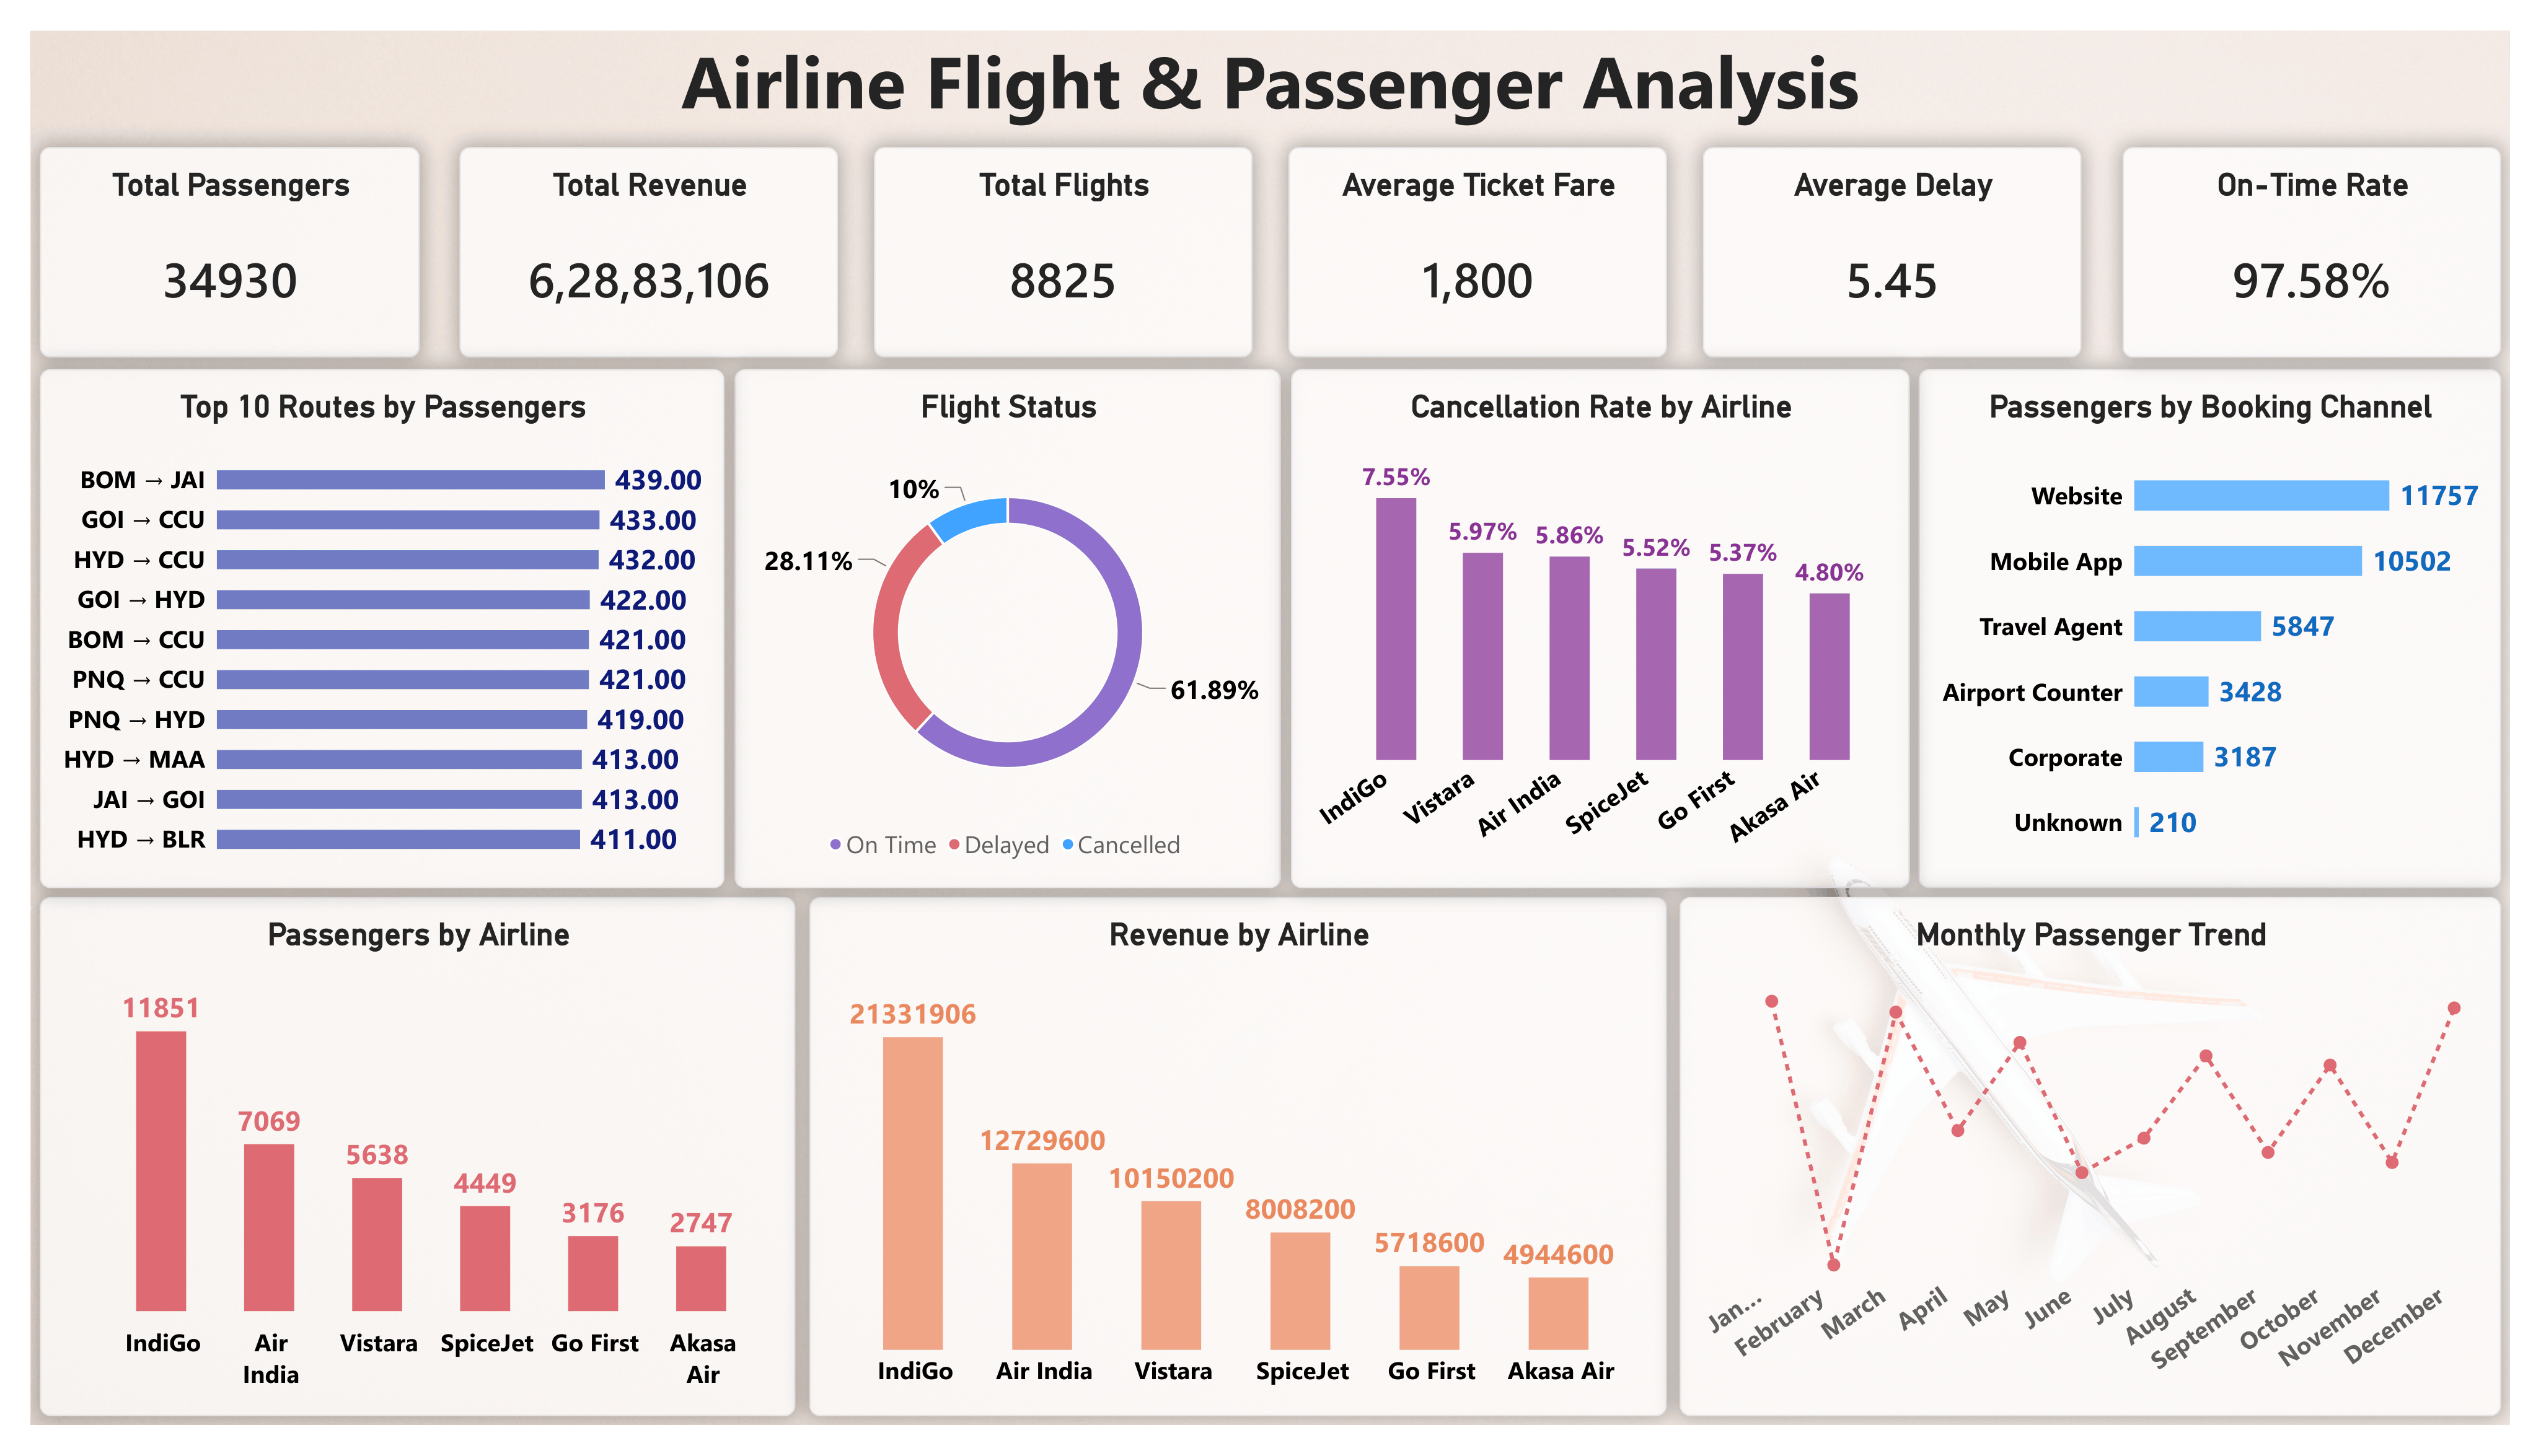

Layout of this report page (visuals, bound fields, positions):
{"tool":"powerbi","page":{"name":"Airline Overview","canvas":[1920,1080],"ordinal":0},"visuals":[{"type":"card","title":"Total Passengers","fields":{"Values":["airline_flights.Total Passengers"]},"box":[7.3,89.9,293.5,163.2],"z":0},{"type":"card","title":"Total Revenue","fields":{"Values":["airline_flights.Total Revenue"]},"box":[332,89.9,293.5,163.2],"z":1000},{"type":"card","title":"Total Flights","fields":{"Values":["airline_flights.Total Flights"]},"box":[653,89.9,293.5,163.2],"z":2000},{"type":"card","title":"Average Ticket Fare","fields":{"Values":["airline_flights.Average Ticket Fare"]},"box":[974,89.9,293.5,163.2],"z":3000},{"type":"card","title":"Average Delay","fields":{"Values":["airline_flights.Average Delay"]},"box":[1295,89.9,293.5,163.2],"z":4000},{"type":"clusteredColumnChart","title":"Passengers by Airline","fields":{"Category":["airline_flights.Airline"],"Y":["airline_flights.Total Passengers"]},"box":[7.3,671.3,585.1,401.7],"z":5000},{"type":"clusteredColumnChart","title":"Revenue by Airline","fields":{"Category":["airline_flights.Airline"],"Y":["airline_flights.Total Revenue"]},"box":[603.5,671.3,664,401.7],"z":6000},{"type":"donutChart","title":"Flight Status","fields":{"Category":["airline_flights.Flight_Status"],"Y":["airline_flights.Total Flights"]},"box":[544.8,262.3,423.7,401.7],"z":7000},{"type":"clusteredBarChart","title":"Passengers by Booking Channel","fields":{"Category":["airline_flights.Booking_Channel"],"Y":["airline_flights.Total Passengers"]},"box":[1461.9,262.3,451.2,401.7],"z":8000},{"type":"clusteredColumnChart","title":"Cancellation Rate by Airline","fields":{"Category":["airline_flights.Airline"],"Y":["airline_flights.Cancellation Rate"]},"box":[975.8,262.3,478.7,401.7],"z":9000},{"type":"lineChart","title":"Monthly Passenger Trend","fields":{"Category":["airline_flights.Flight_Date.Variation.Date Hierarchy.Month"],"Y":["airline_flights.Total Passengers"]},"box":[1276.6,671.3,636.5,401.7],"z":10000},{"type":"clusteredBarChart","title":"Top 10 Routes by Passengers","fields":{"Category":["airline_flights.Route"],"Y":["airline_flights.Total Passengers"]},"box":[7.3,262.3,530.1,401.7],"z":11000},{"type":"textbox","box":[0,0,1920.5,89.9],"z":11001},{"type":"card","title":"On-Time Rate","fields":{"Values":["airline_flights.On-Time Rate"]},"box":[1619.6,89.9,293.5,163.2],"z":11002}]}

Visuals, with their boxes in screenshot pixels (x1, y1, x2, y2):
"Total Passengers" card: l=23, t=177, r=406, b=390
"Total Revenue" card: l=447, t=177, r=830, b=390
"Total Flights" card: l=866, t=177, r=1249, b=390
"Average Ticket Fare" card: l=1284, t=177, r=1668, b=390
"Average Delay" card: l=1703, t=177, r=2087, b=390
"Passengers by Airline" clusteredColumnChart: l=23, t=936, r=786, b=1455
"Revenue by Airline" clusteredColumnChart: l=801, t=936, r=1668, b=1455
"Flight Status" donutChart: l=724, t=401, r=1277, b=926
"Passengers by Booking Channel" clusteredBarChart: l=1921, t=401, r=2510, b=926
"Cancellation Rate by Airline" clusteredColumnChart: l=1287, t=401, r=1911, b=926
"Monthly Passenger Trend" lineChart: l=1680, t=936, r=2510, b=1455
"Top 10 Routes by Passengers" clusteredBarChart: l=23, t=401, r=715, b=926
textbox: l=13, t=59, r=2520, b=177
"On-Time Rate" card: l=2127, t=177, r=2510, b=390
